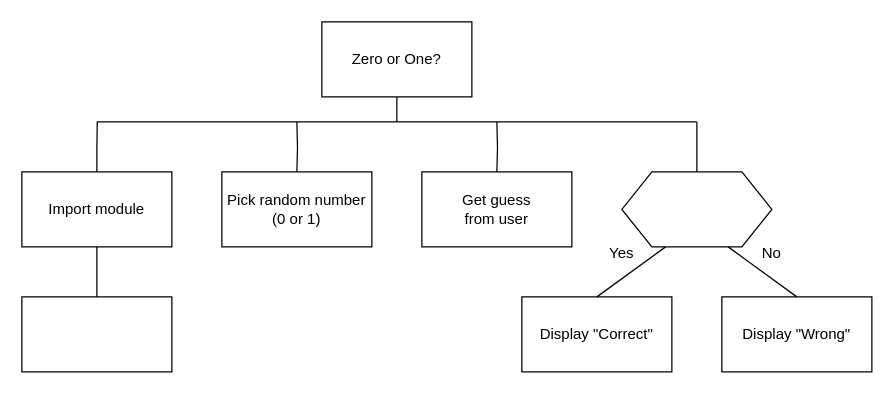
The diagram is 894 pixels wide and 394 high, and some of its shapes have lost their labels. Each missing label, with the box of its shape:
Initialise variables: (21, 296, 172, 372)
Is guess correct?: (621, 171, 772, 247)
